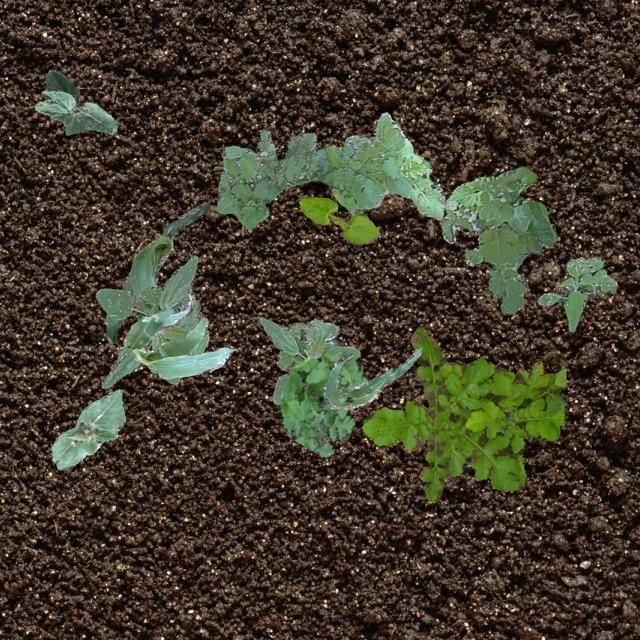crop: (104, 202, 208, 342), (95, 255, 202, 388), (122, 292, 234, 378), (258, 316, 358, 404), (322, 347, 421, 409), (50, 388, 124, 469), (34, 68, 116, 134), (297, 196, 378, 243)
weed: (362, 326, 564, 500), (216, 112, 444, 230), (440, 165, 556, 314), (280, 349, 368, 456), (536, 256, 616, 330)
